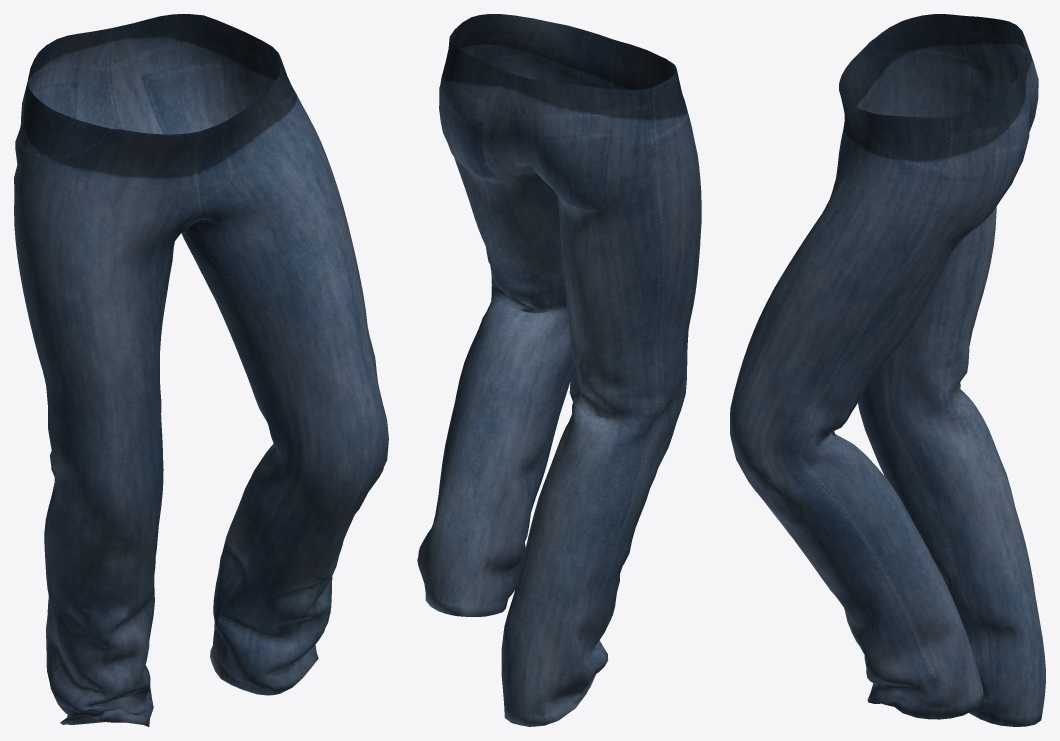
The model's file is pants.obj.
3 renders of one model, left to right at view 1: azimuth 30°, elevation 25°; view 2: azimuth 150°, elevation 25°; view 3: azimuth 270°, elevation 25°, orthographic. The views are drawn at different scales.
Parts seen in each view (by area): view 1: Ch01_Pants; view 2: Ch01_Pants; view 3: Ch01_Pants.
Boxes of the visible parts, box(x1,y1,x2,y2) form: Ch01_Pants: box(14, 14, 388, 726); Ch01_Pants: box(417, 14, 701, 726); Ch01_Pants: box(730, 14, 1045, 726).
Bounding box in the file's own units: 0.4021 × 0.9275 × 0.3984.
